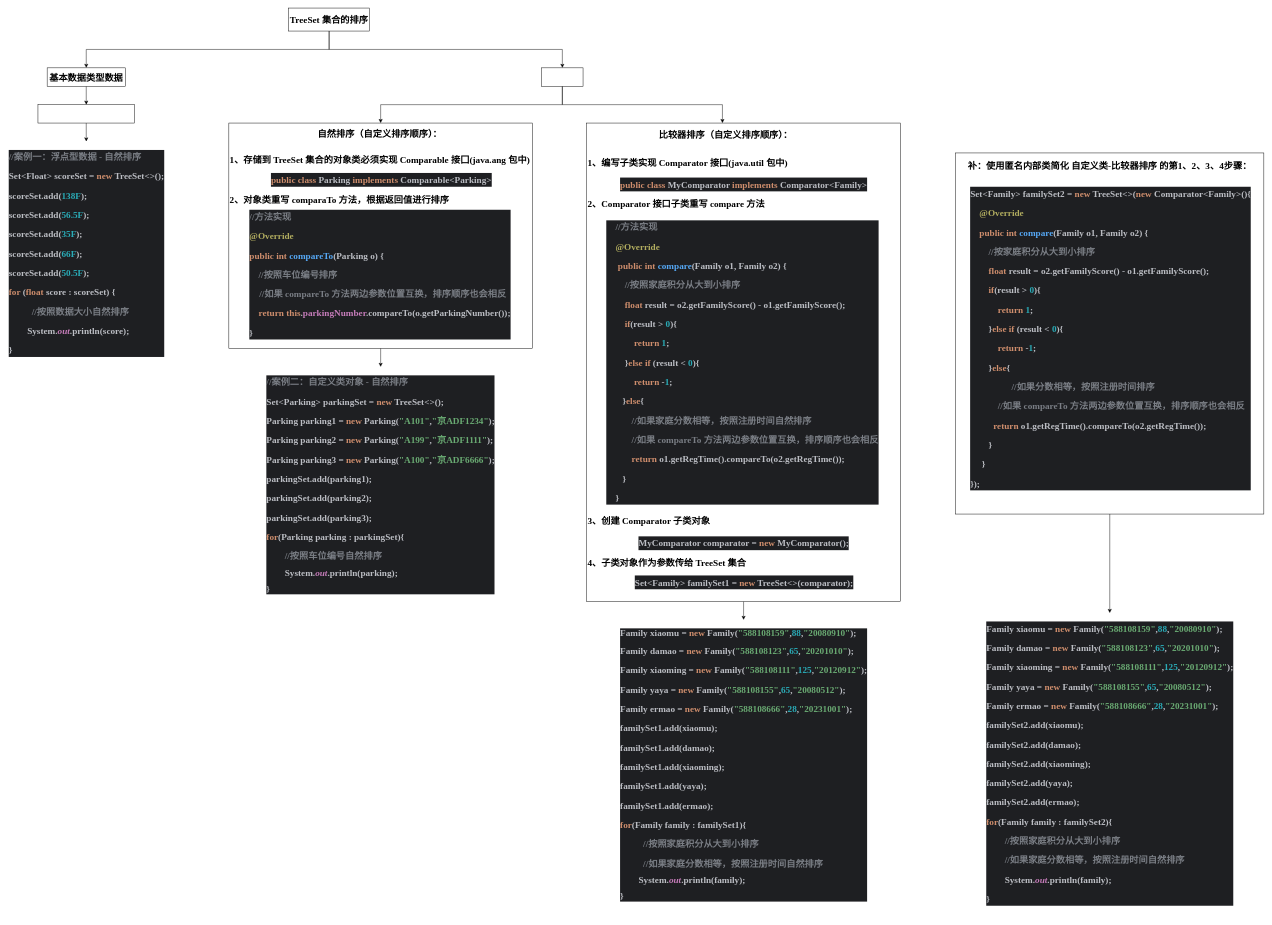
Image size: 1272x925. Some labels were removed from this diagram. The centre of each missing label's shape, as x and y in pixels:
自定义类: the point at 562,76
自然排序（从小到大）: the point at 86,113
